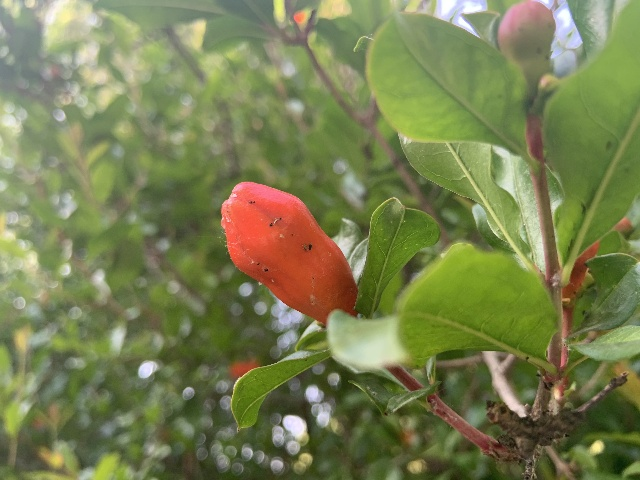bud: (219, 180, 357, 327), (497, 0, 557, 77)
